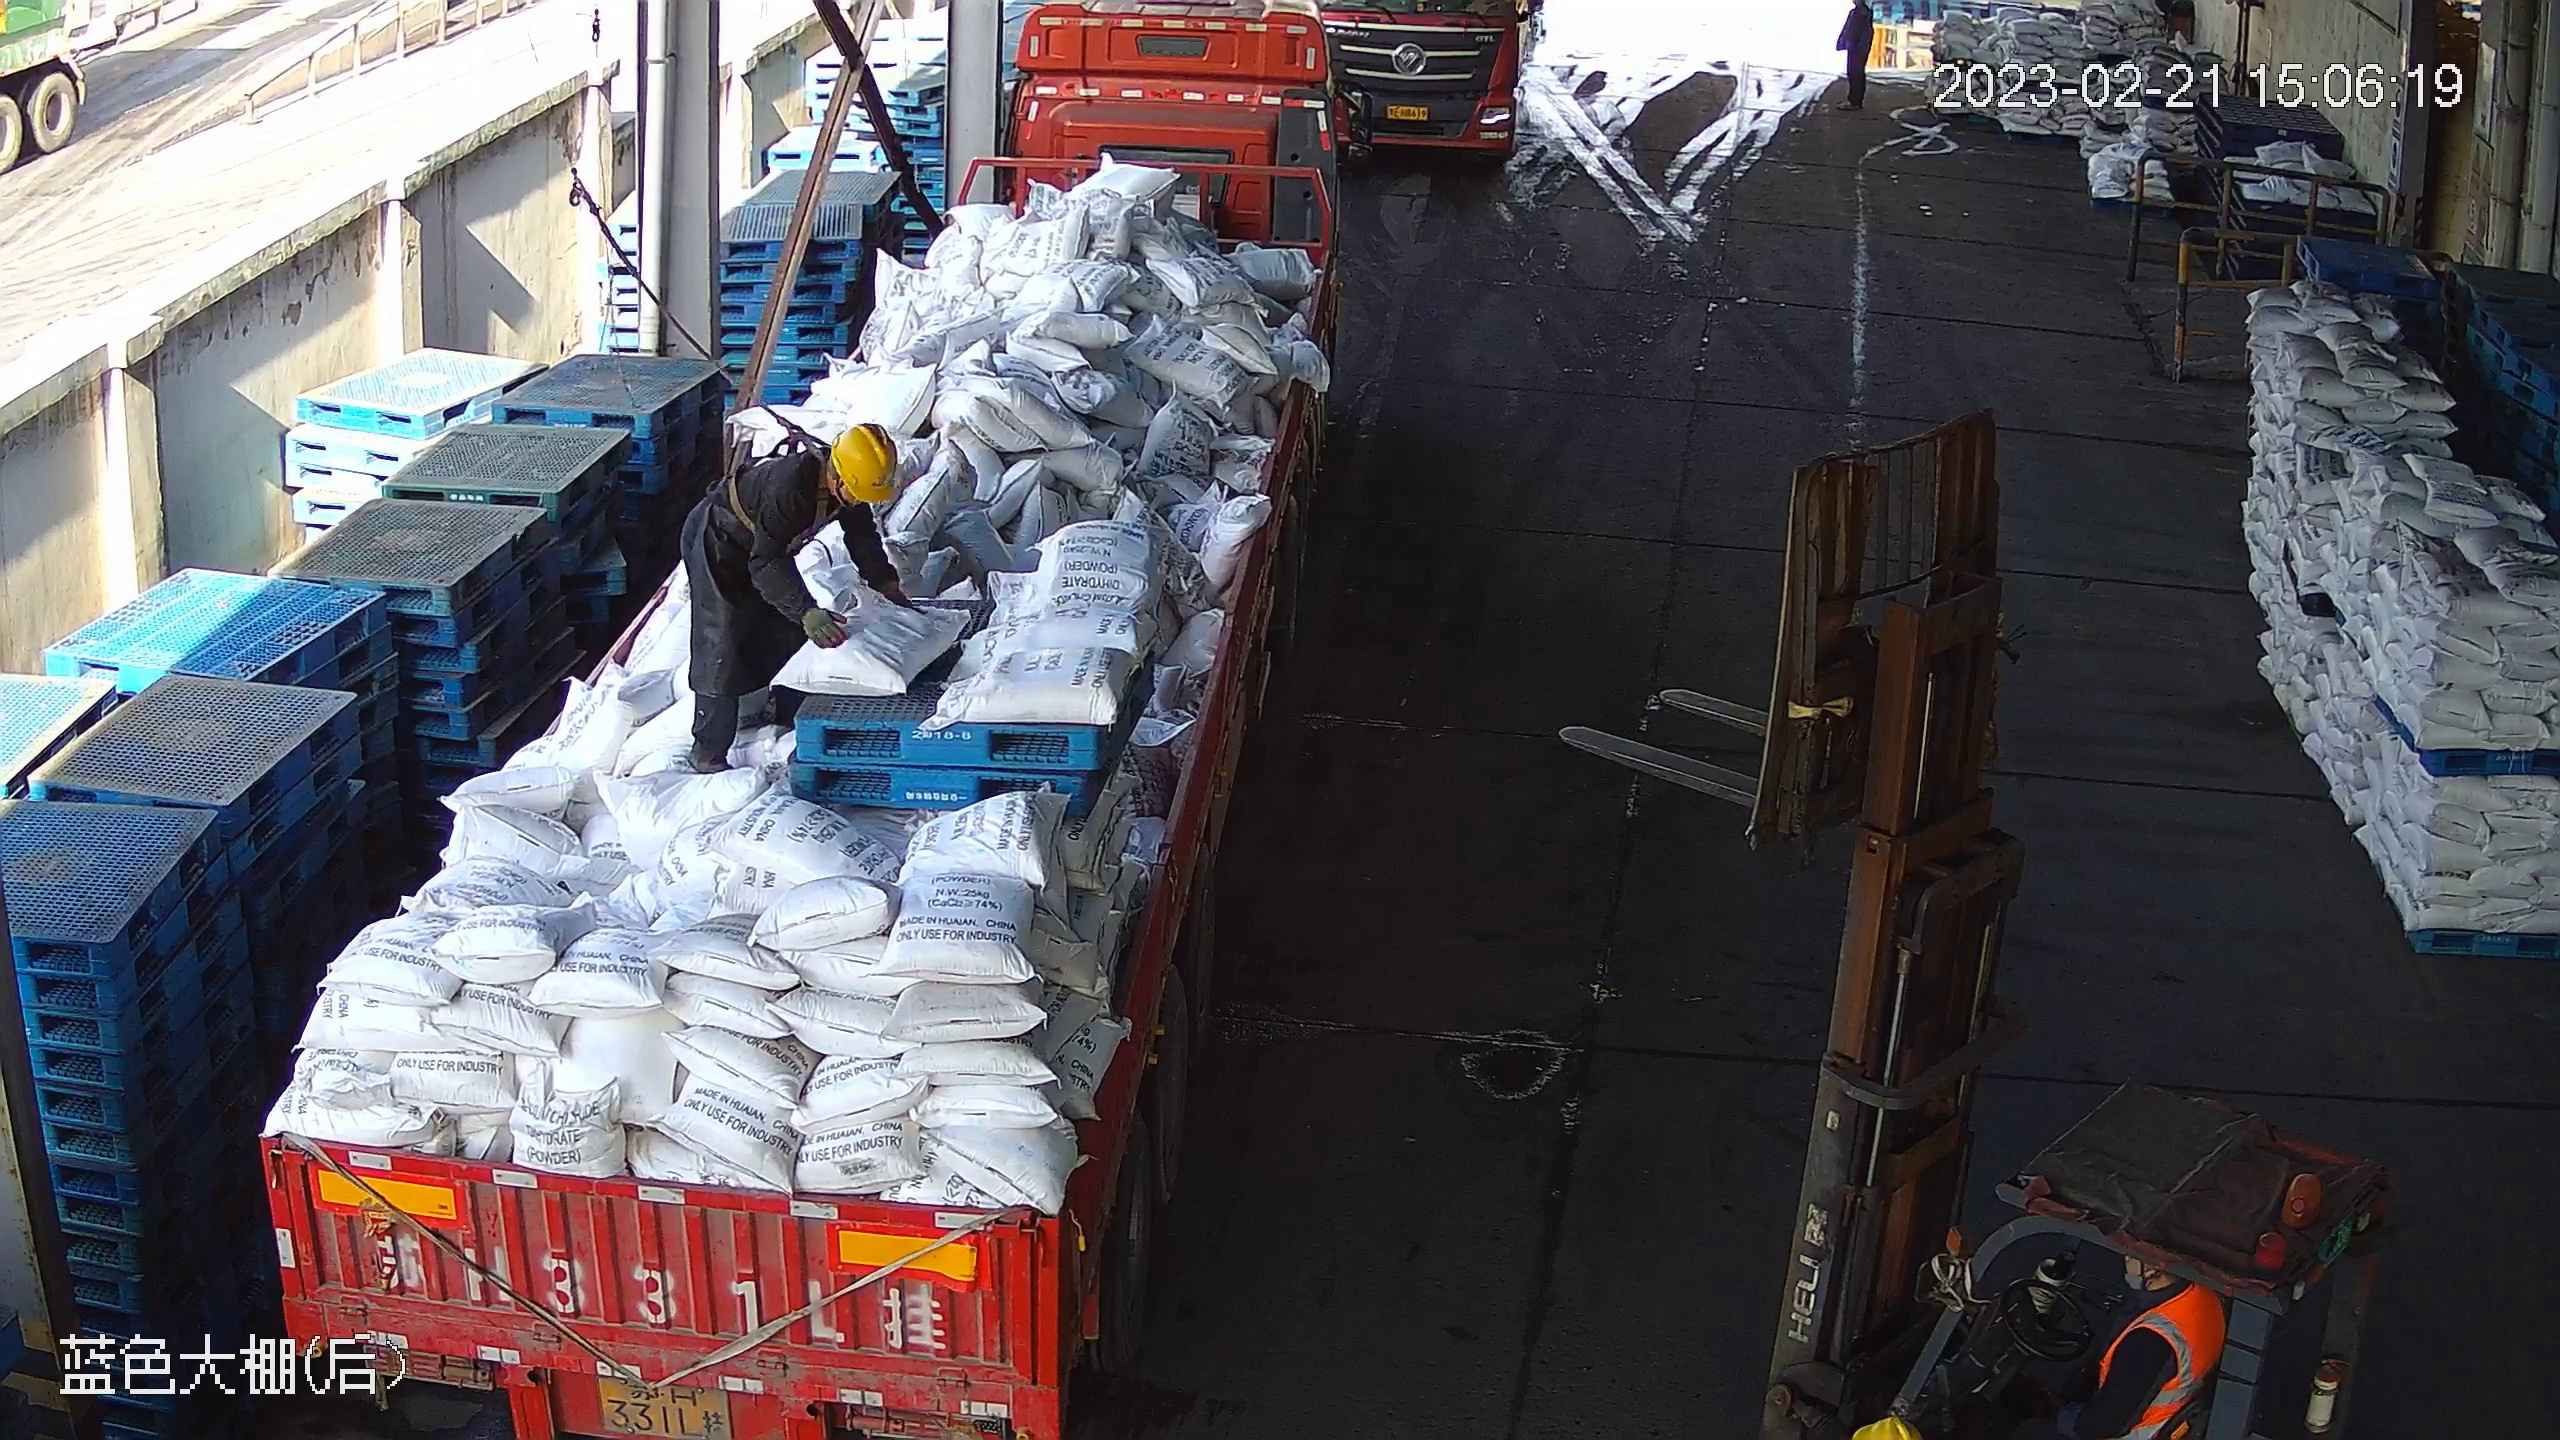belt: (722, 408, 834, 543)
head: (752, 407, 900, 540)
helmet: (834, 425, 898, 509)
people: (669, 413, 906, 771), (1836, 2, 1876, 112)
truck: (251, 1, 1349, 1427)
